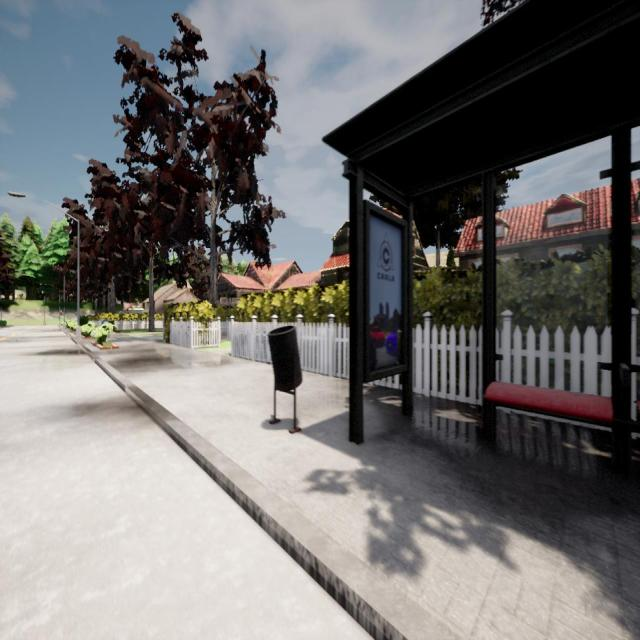traffic_light: (60, 309, 62, 315)
